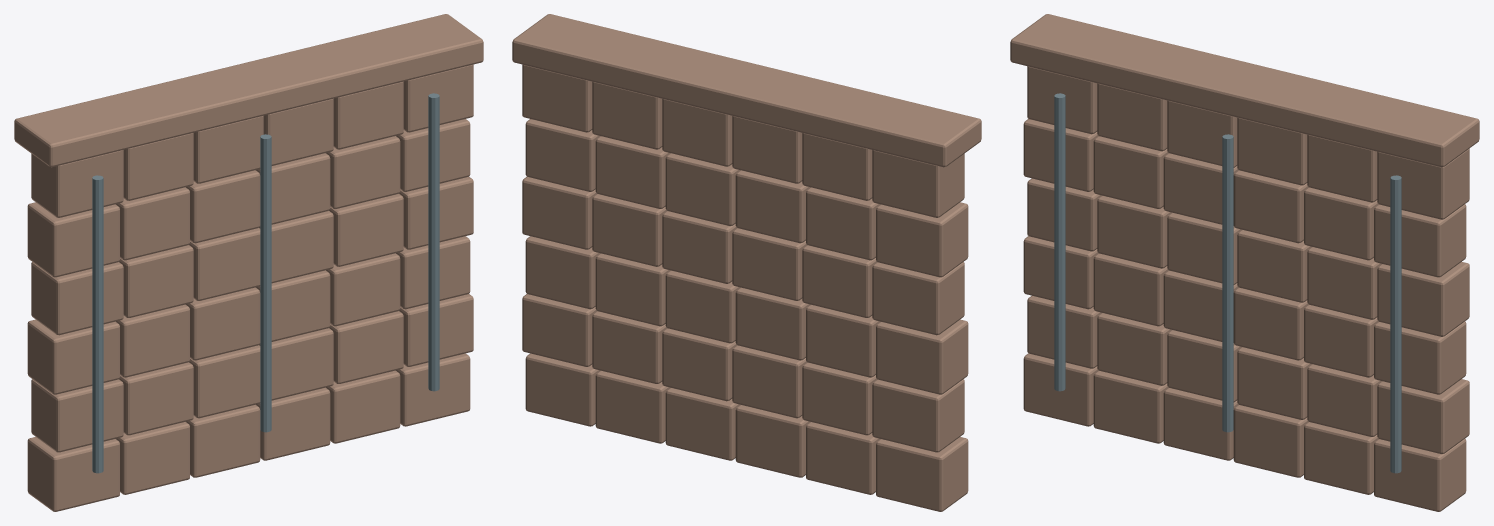
Rendered from a2_wall.glb.
3 views of the same model, side by side, from view 1: azimuth 30°, elevation 25°; view 2: azimuth 150°, elevation 25°; view 3: azimuth 330°, elevation 25° (orthographic).
Parts seen in each view (by area): view 1: Body.006; view 2: Body.006; view 3: Body.006.
Part boxes in pixels (x1,y1,x2,y2): Body.006: (14,14,483,511); Body.006: (512,14,981,511); Body.006: (1010,14,1479,511).
Size of the model in its own units: 3.1 by 2.55 by 0.4733.
